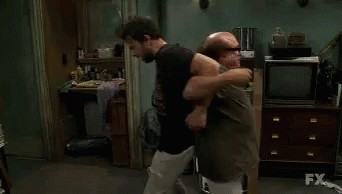Humano: (113, 17, 196, 194), (196, 26, 263, 193)
